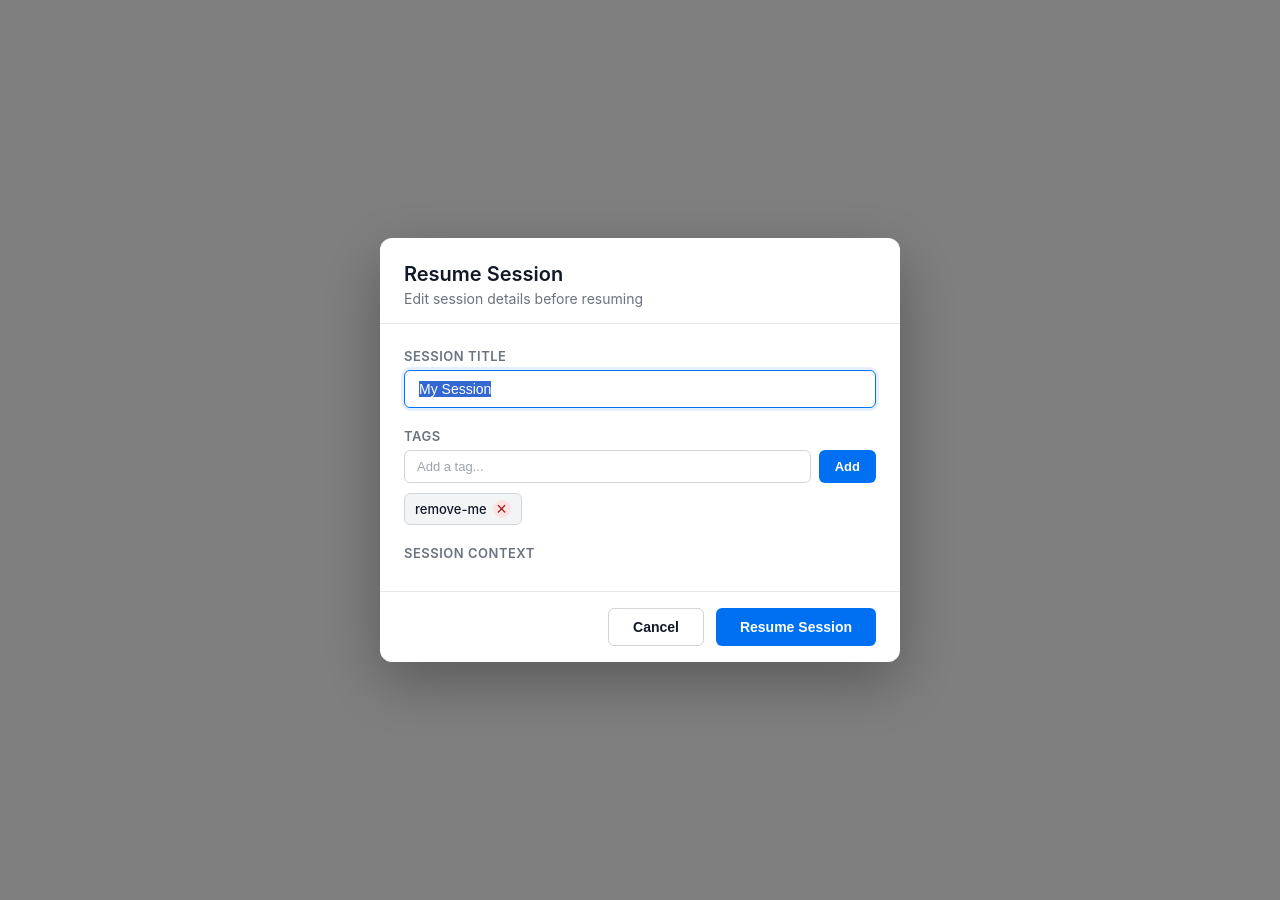
ResumeSessionModal › tag management › removes a tag when its remove button is clicked
The image size is (1280, 900).
Expected: the text "remove-me" is shown, [415,501,487,517]
Click the button named "remove tag remove-me". click: (502, 509)
box: [493,500,511,518]
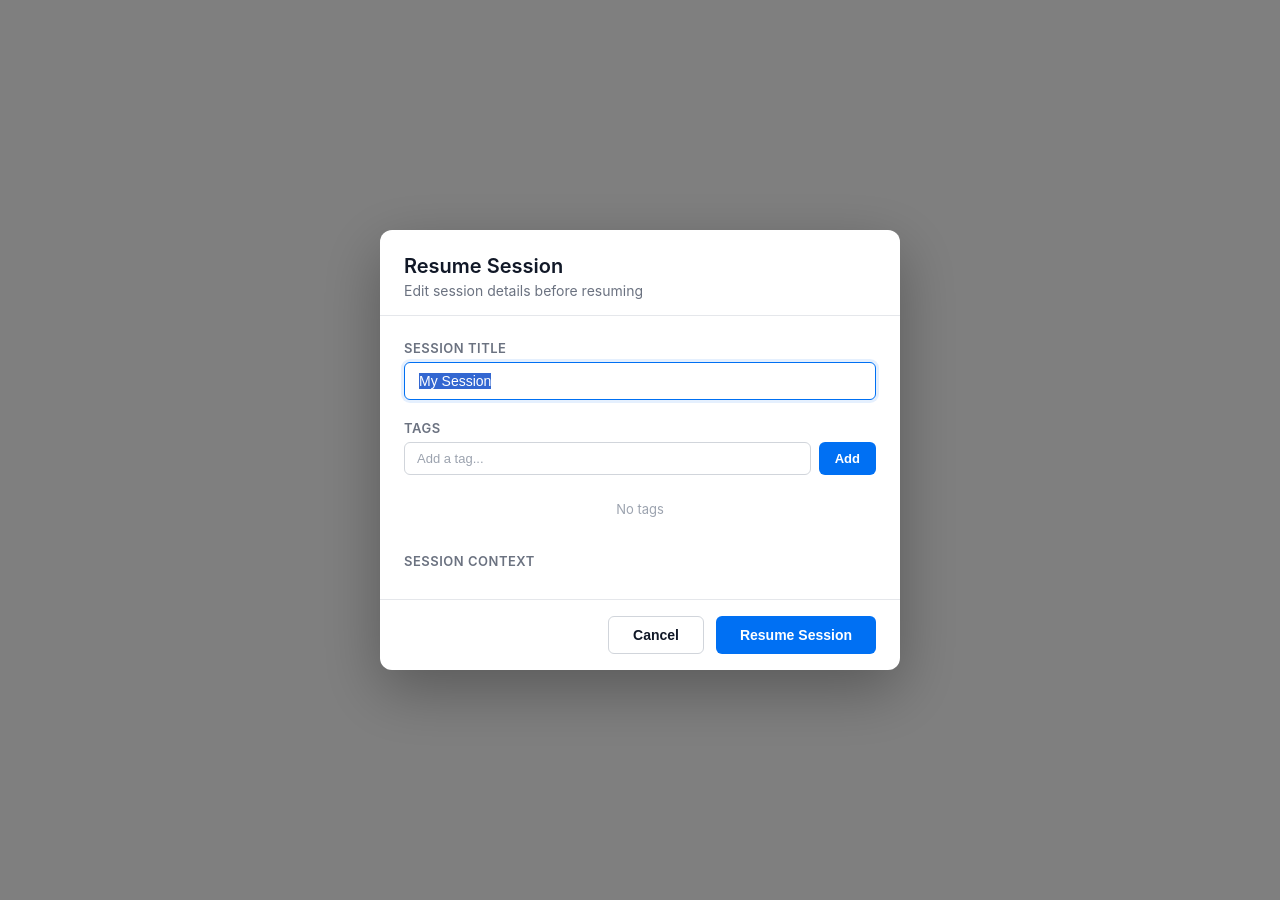
Expected: the text "remove-me" is gone
